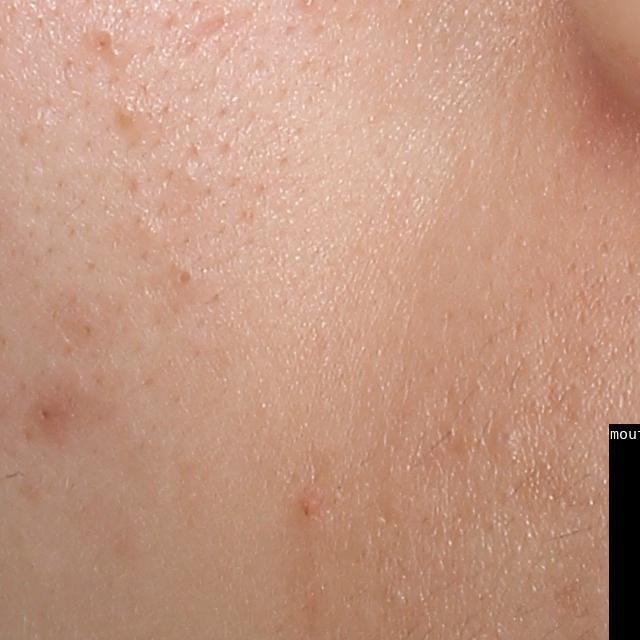comedo: (482, 422, 522, 454), (168, 260, 201, 294)
